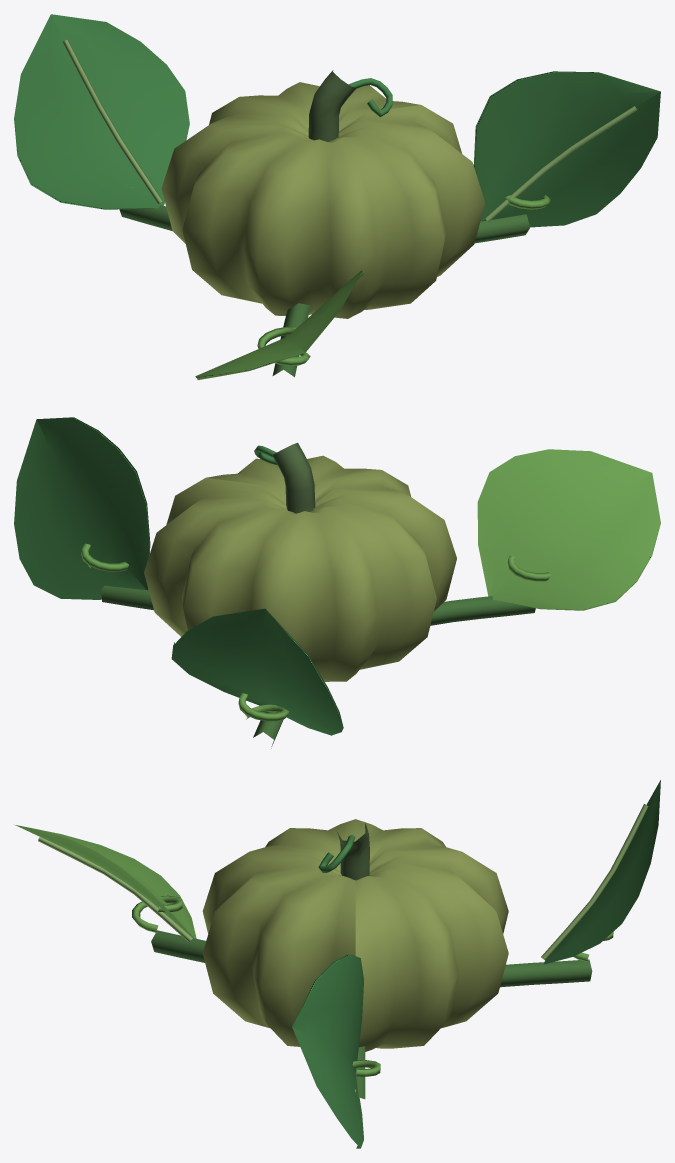
The model's file is calabaza_2.glb.
The picture shows the model from 3 angles, top to bottom: view 1: azimuth 30°, elevation 25°; view 2: azimuth 150°, elevation 25°; view 3: azimuth 270°, elevation 25°; orthographic projection. The views are drawn at different scales.
Visible parts, largest first — view 1: calabaza_2_guias_0; view 2: calabaza_2_guias_0; view 3: calabaza_2_guias_0.
Boxes of the visible parts, x1=… form: calabaza_2_guias_0: x1=14, y1=14, x2=660, y2=379; calabaza_2_guias_0: x1=14, y1=417, x2=660, y2=748; calabaza_2_guias_0: x1=14, y1=780, x2=660, y2=1148.
Size of the model in its own units: 0.6441 by 0.246 by 0.666.
